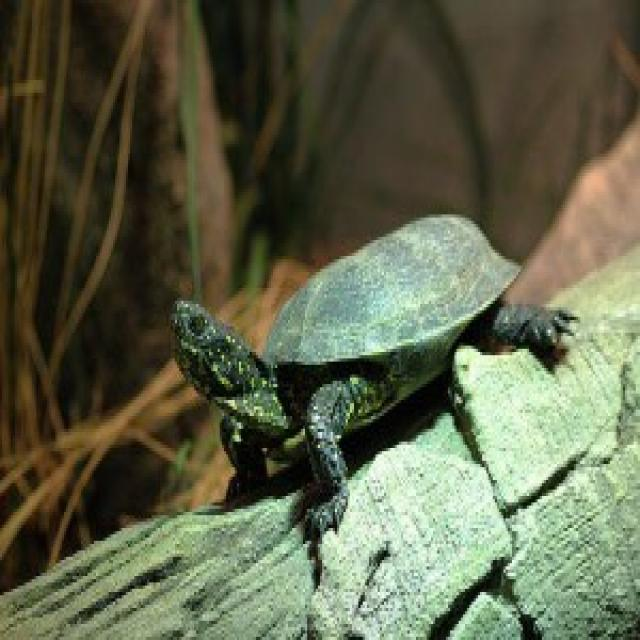Sea turtle: (127, 225, 609, 524)
